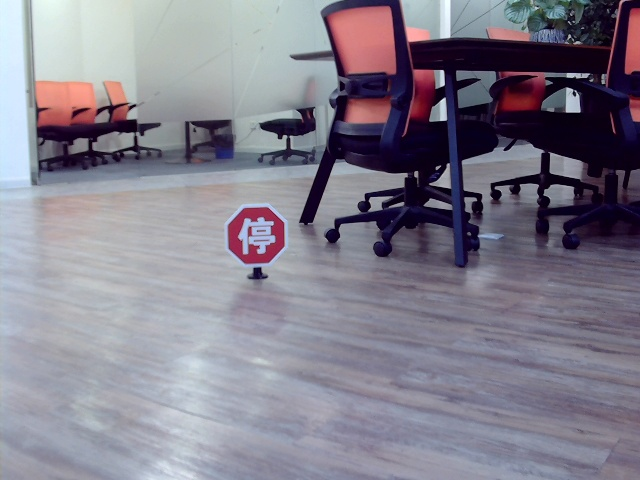stop: (236, 216, 275, 252)
